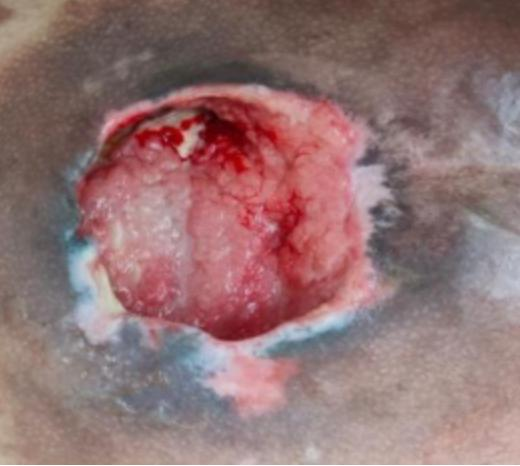Stage4: (43, 20, 426, 386)
